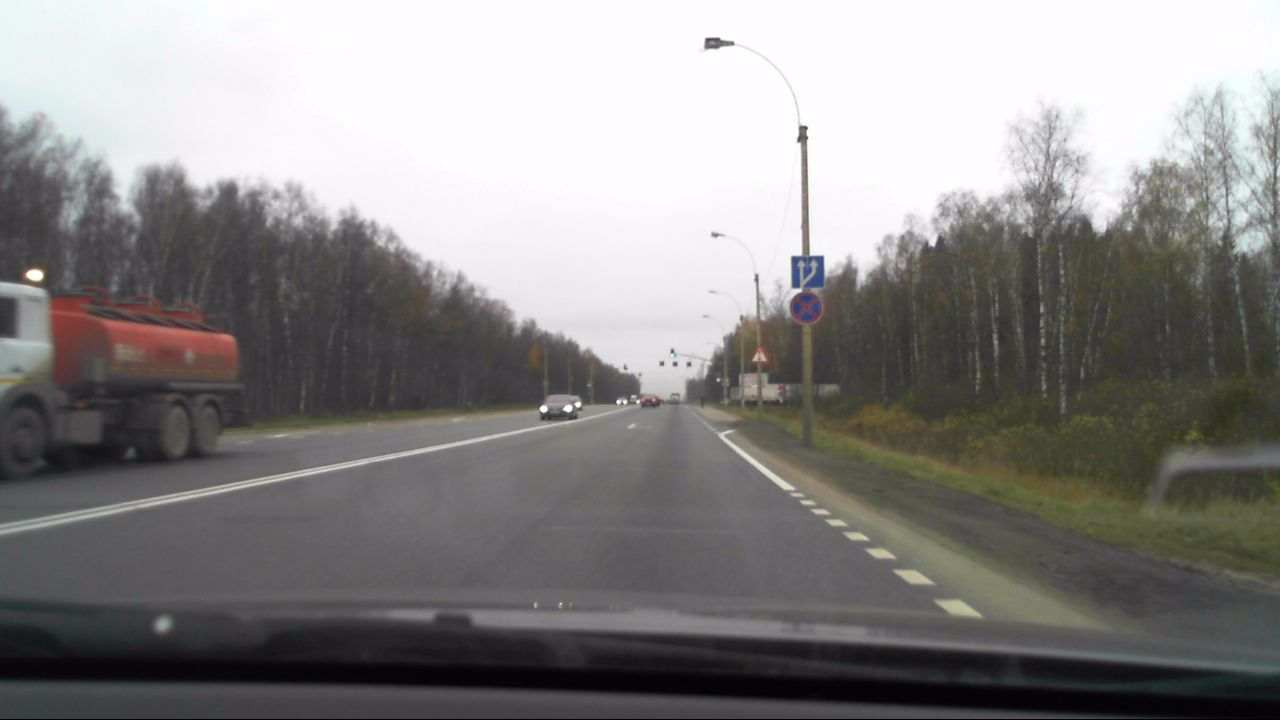No Parking: (789, 292, 824, 325)
